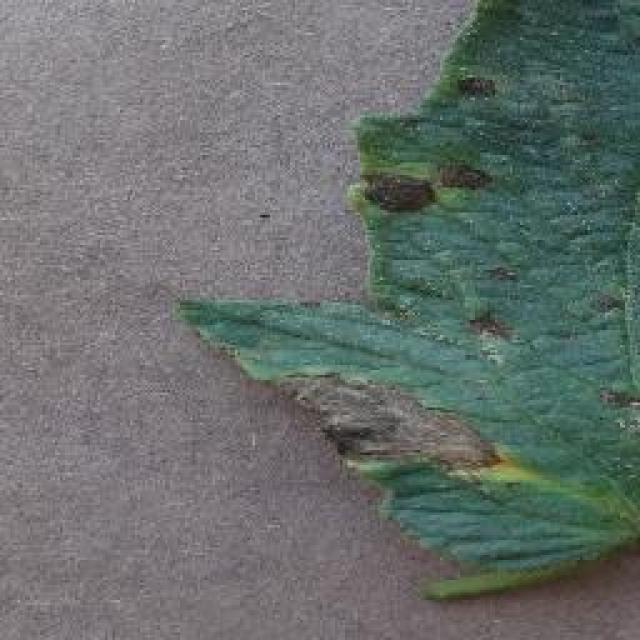Tomato Early blight leaf: (180, 0, 640, 588)
